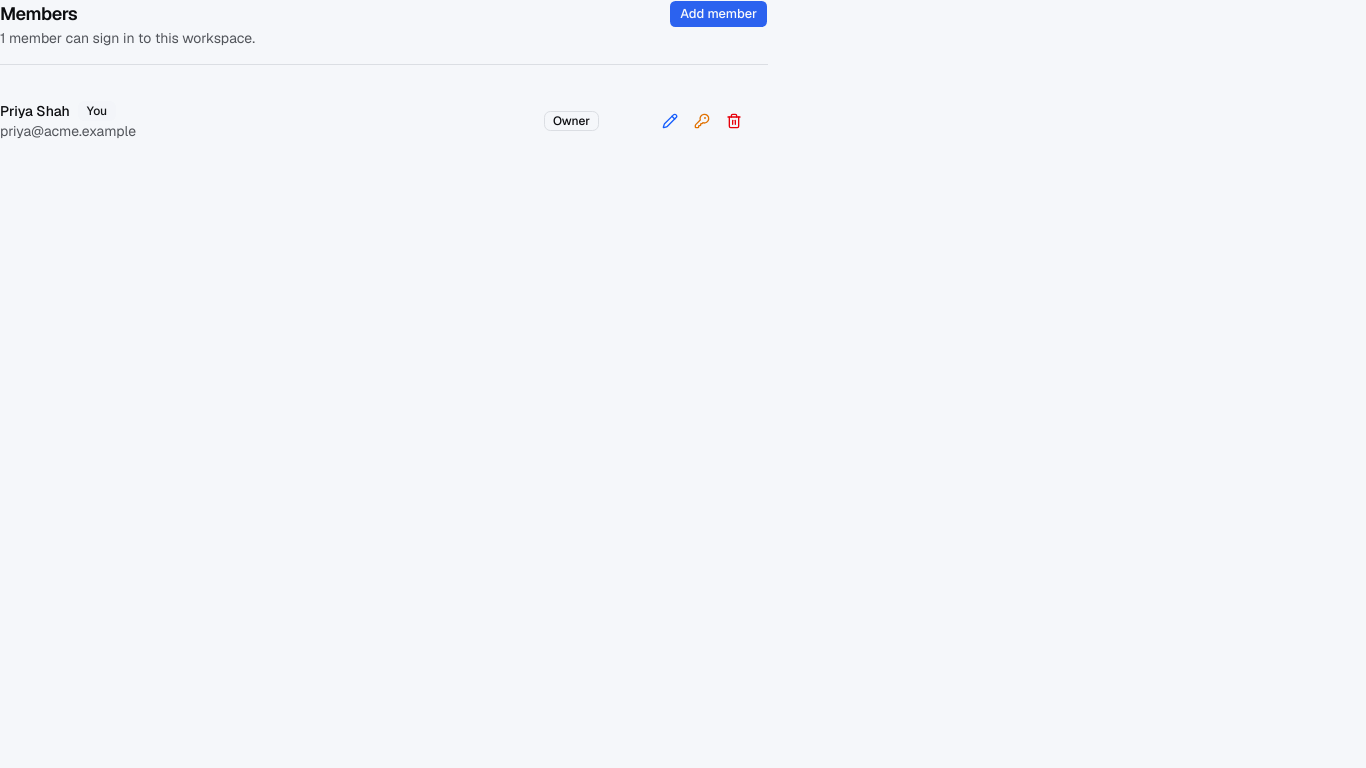
Test: Add member › starts on the directory when there are people to pick
Step 1. Click the button "Add member" → [719, 14], box [669, 0, 768, 28]
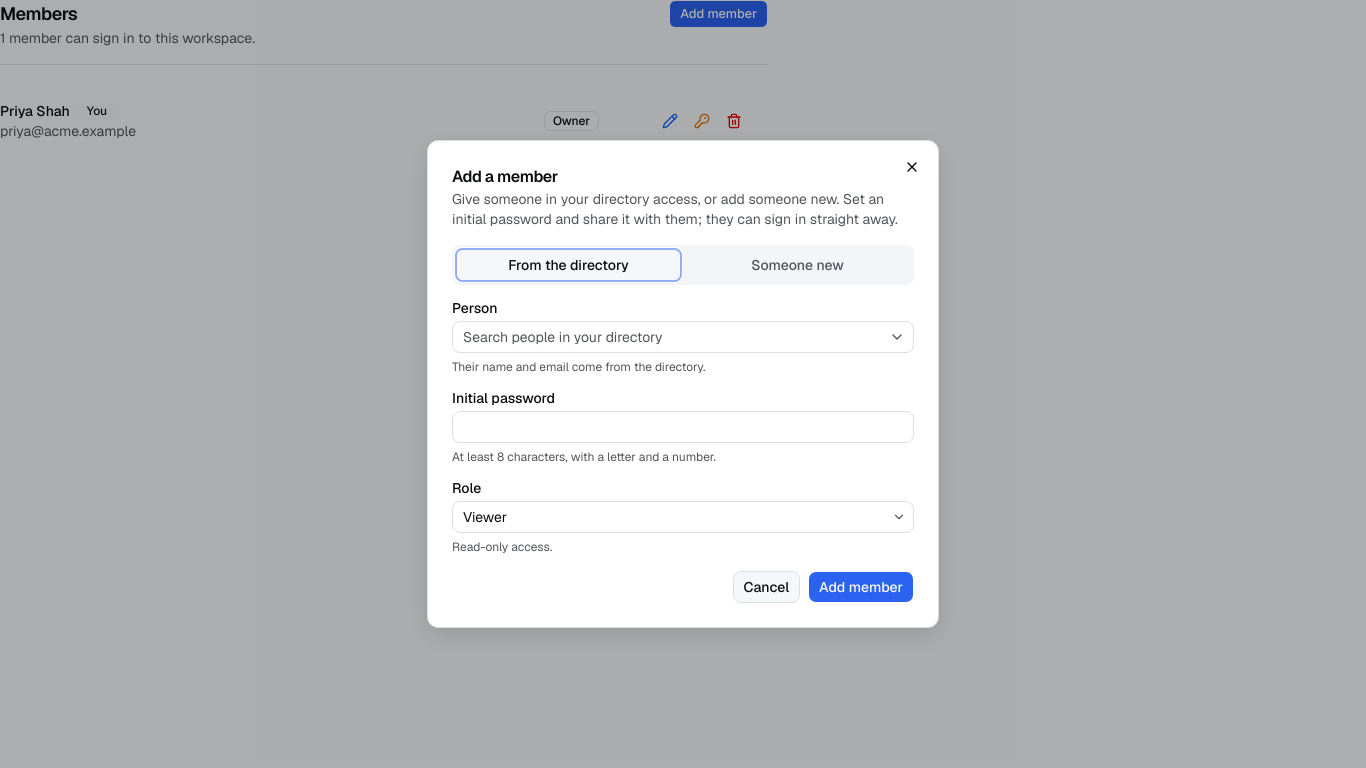
Now the dropdown labelled "Person" is shown, box [453, 323, 885, 351]
